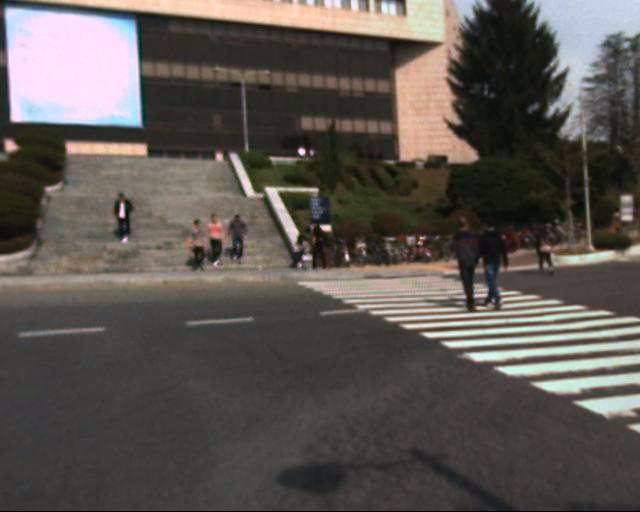person: (440, 212, 495, 314), (484, 214, 521, 308), (102, 185, 140, 247), (532, 219, 567, 283), (181, 211, 212, 277), (201, 209, 230, 274), (225, 208, 257, 264), (603, 200, 631, 257), (308, 215, 333, 270)
